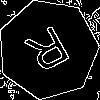R: (23, 24, 77, 82)
